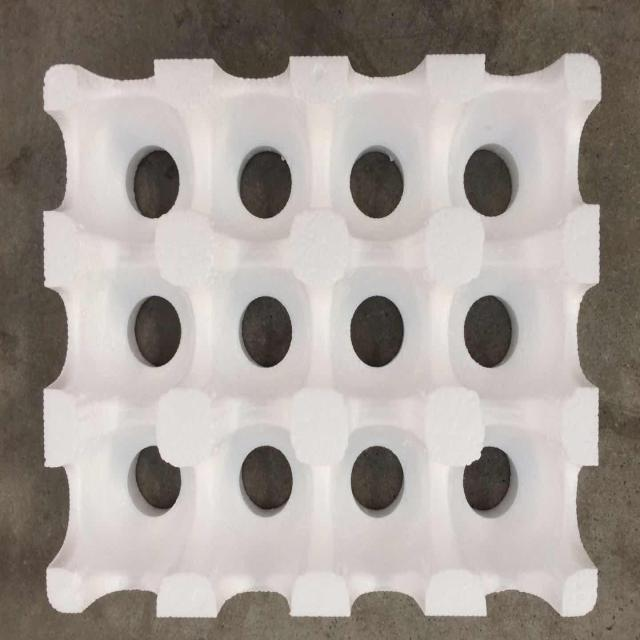styrofoam: (39, 48, 605, 622)
